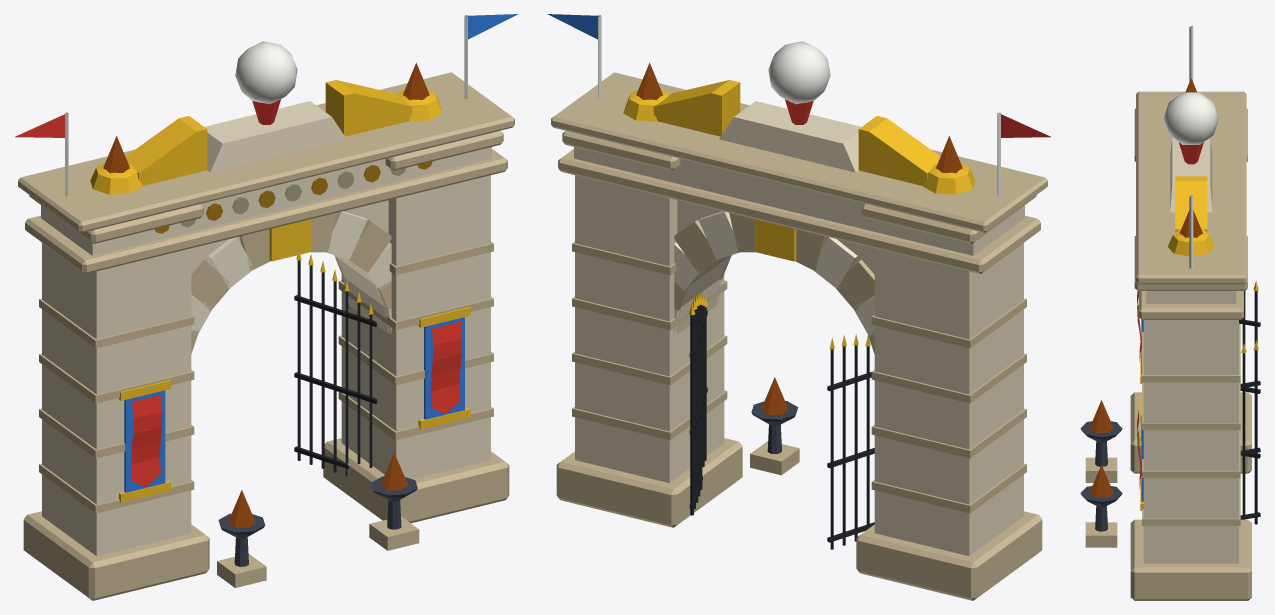
The model's file is gate.glb.
3 views of the same model, side by side, from view 1: azimuth 30°, elevation 25°; view 2: azimuth 150°, elevation 25°; view 3: azimuth 270°, elevation 25° (orthographic). The views are drawn at different scales.
Parts seen in each view (by area): view 1: gate; view 2: gate; view 3: gate.
Part boxes in pixels (x1,y1,x2,y2): gate: (15,14,518,600); gate: (547,14,1050,600); gate: (1080,26,1260,600).
Bounding box in the file's own units: 19.2 × 17.55 × 6.82.
Materials: 2 (2 with a texture image).
